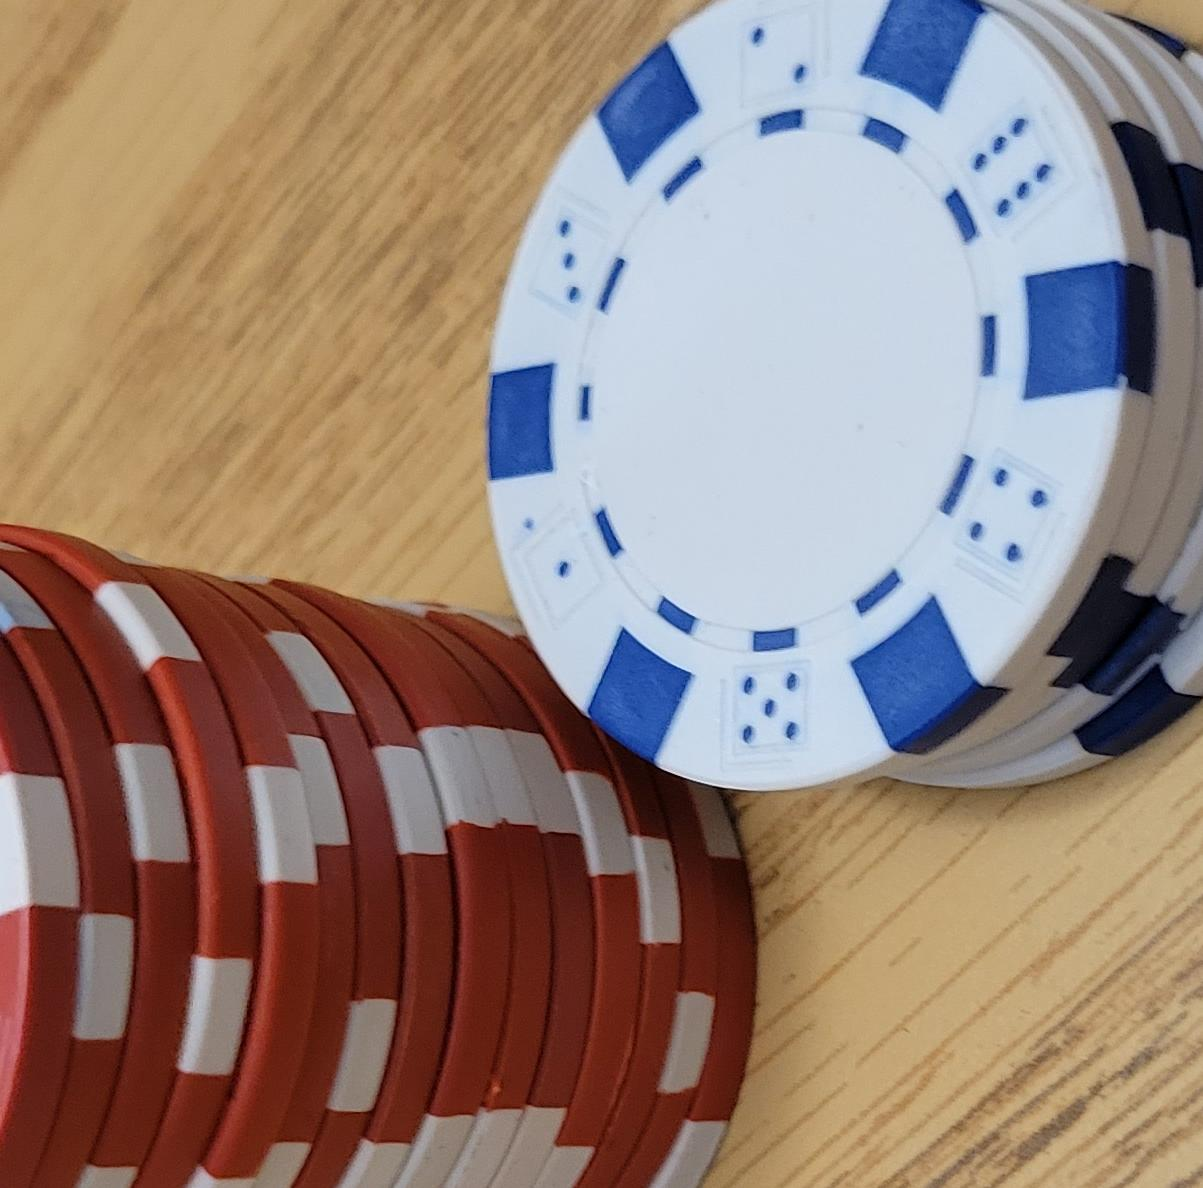Chip: (1, 190, 547, 1188)
